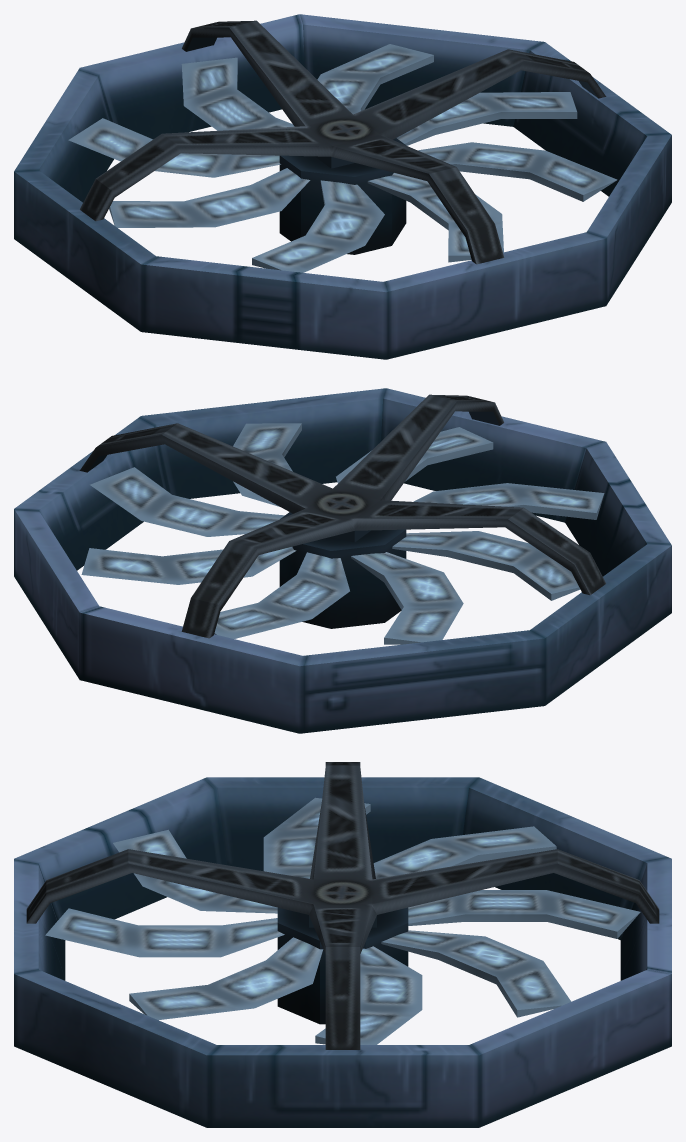
File: fan02.FBX
The picture shows the model from 3 angles, top to bottom: view 1: azimuth 30°, elevation 25°; view 2: azimuth 150°, elevation 25°; view 3: azimuth 270°, elevation 25°; orthographic projection. The views are drawn at different scales.
Visible parts, largest first — view 1: FAN002, rotor002; view 2: FAN002, rotor002; view 3: FAN002, rotor002.
Part boxes in pixels (x1,y1,x2,y2): FAN002: (14, 14, 671, 359); rotor002: (68, 44, 617, 272); FAN002: (14, 388, 671, 733); rotor002: (81, 423, 604, 644); FAN002: (14, 762, 671, 1127); rotor002: (45, 797, 640, 1044).
Bounding box in the file's own units: 987 × 233 × 987.
